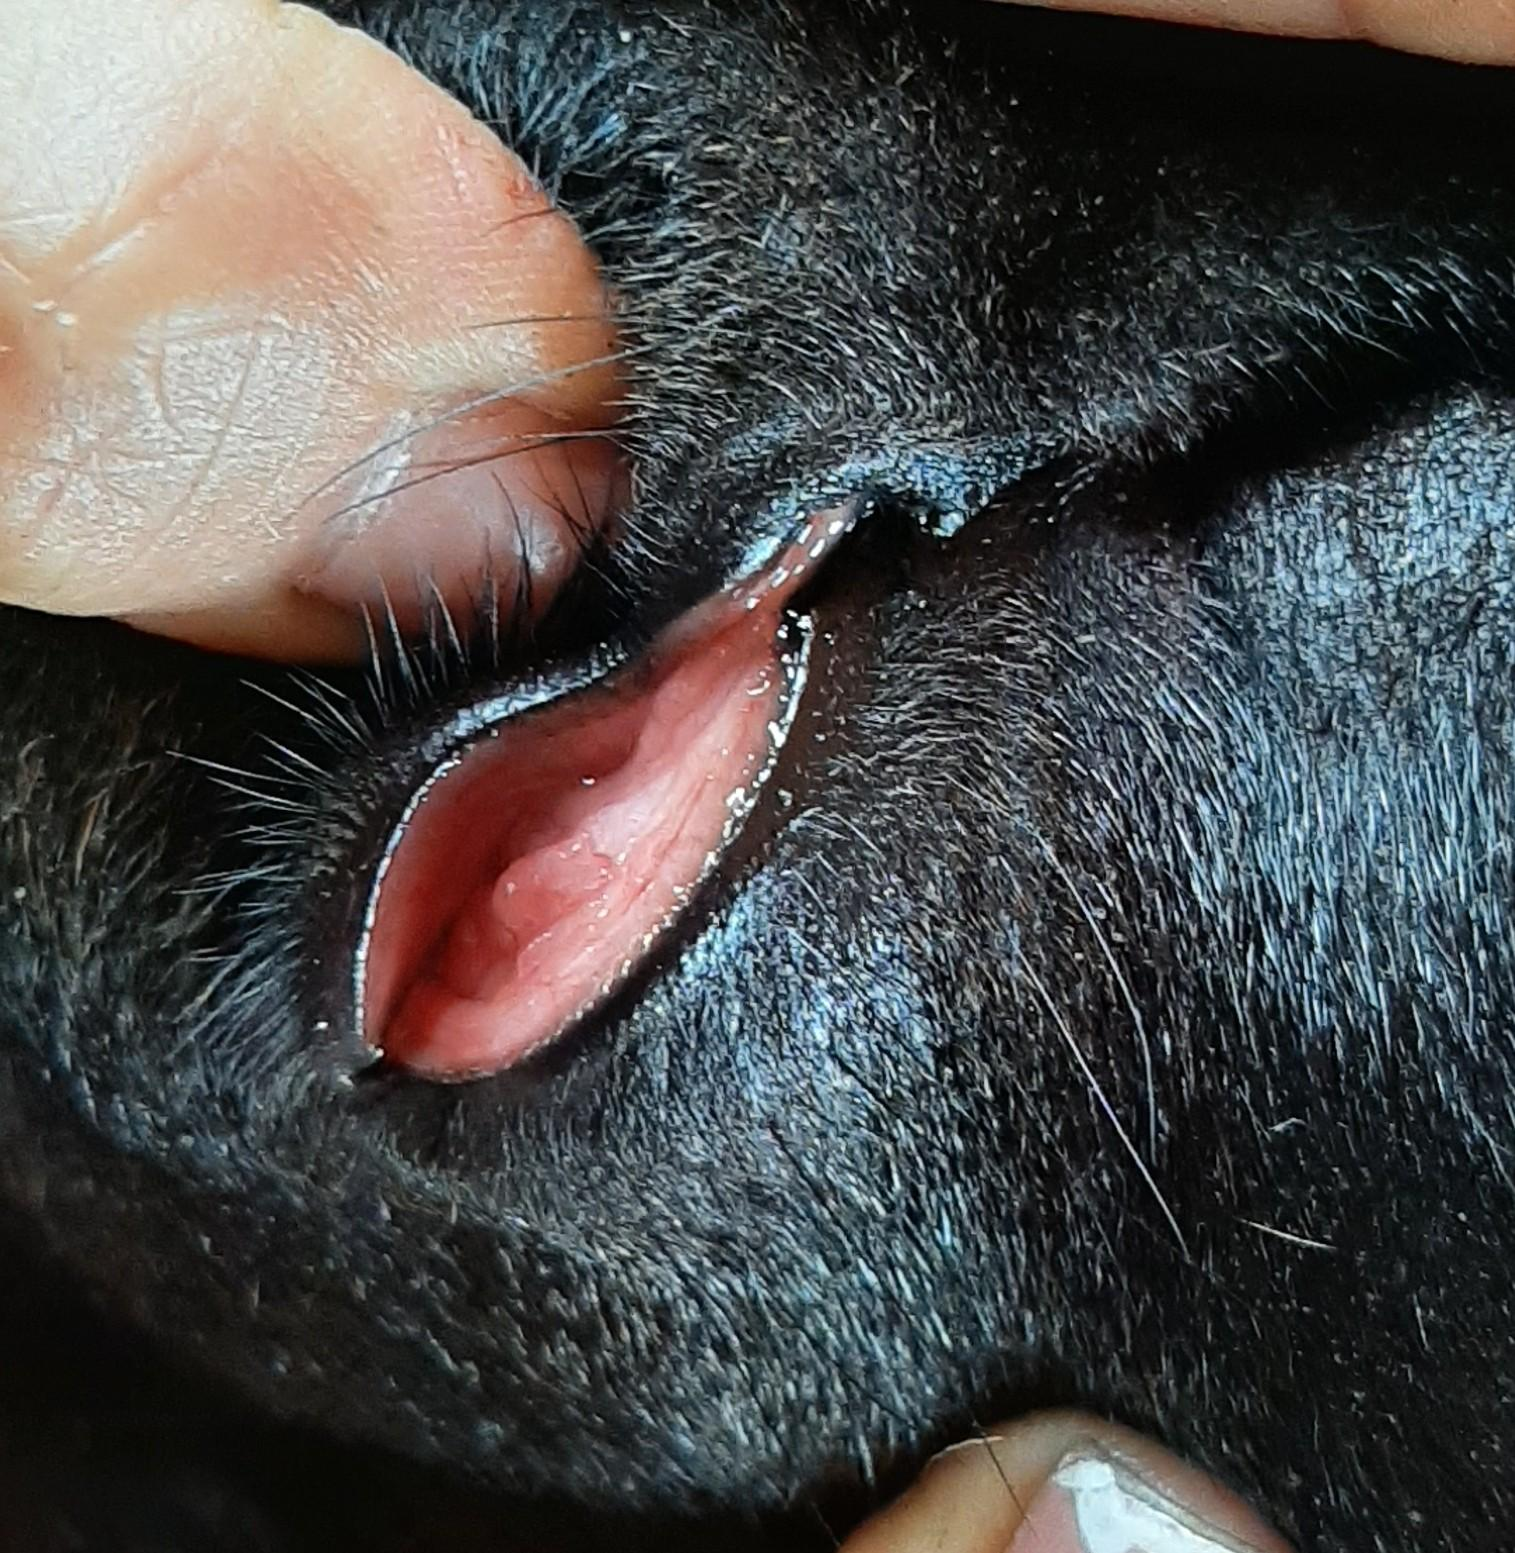eye_membrane: (376, 634, 764, 1058)
